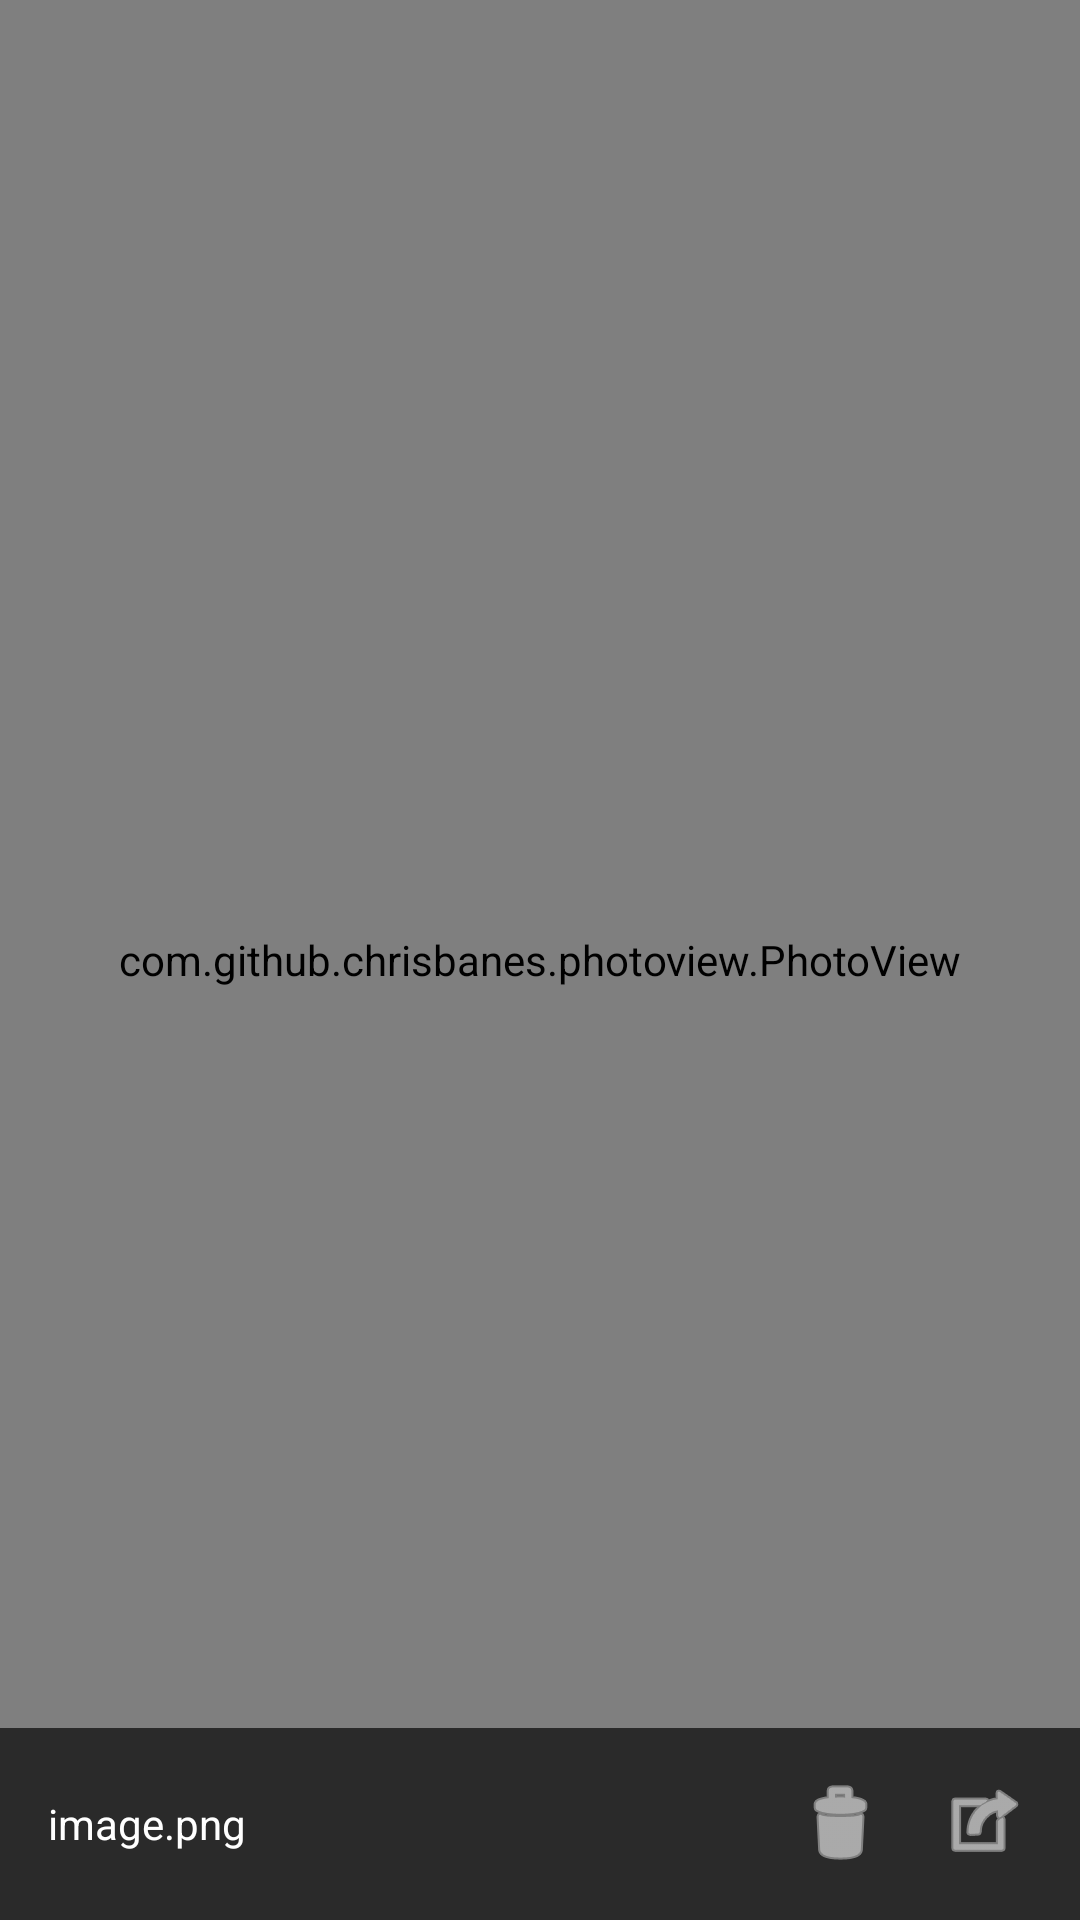

Locate icon controls on the screen. Image size 1080*1920, boxes as (x1, y1, x2, y2).
delete: (813, 1785, 868, 1860)
set as: (951, 1790, 1018, 1852)
